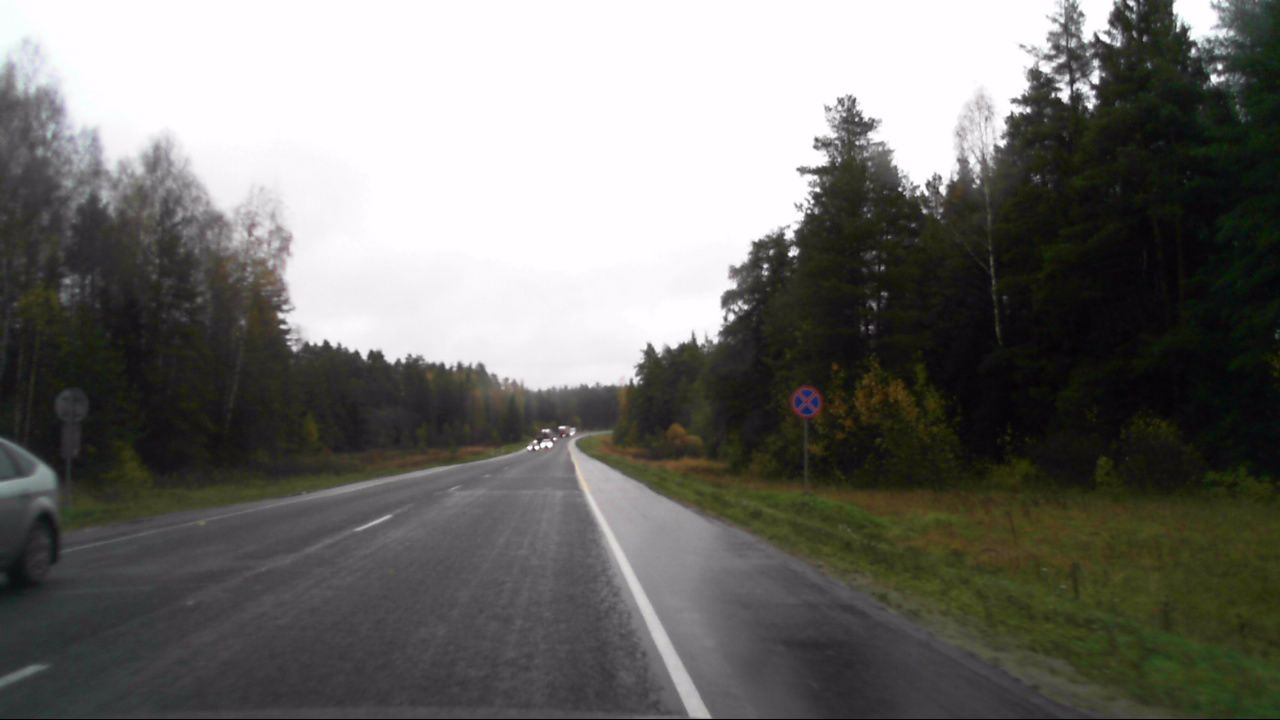No Parking: (789, 387, 821, 422)
